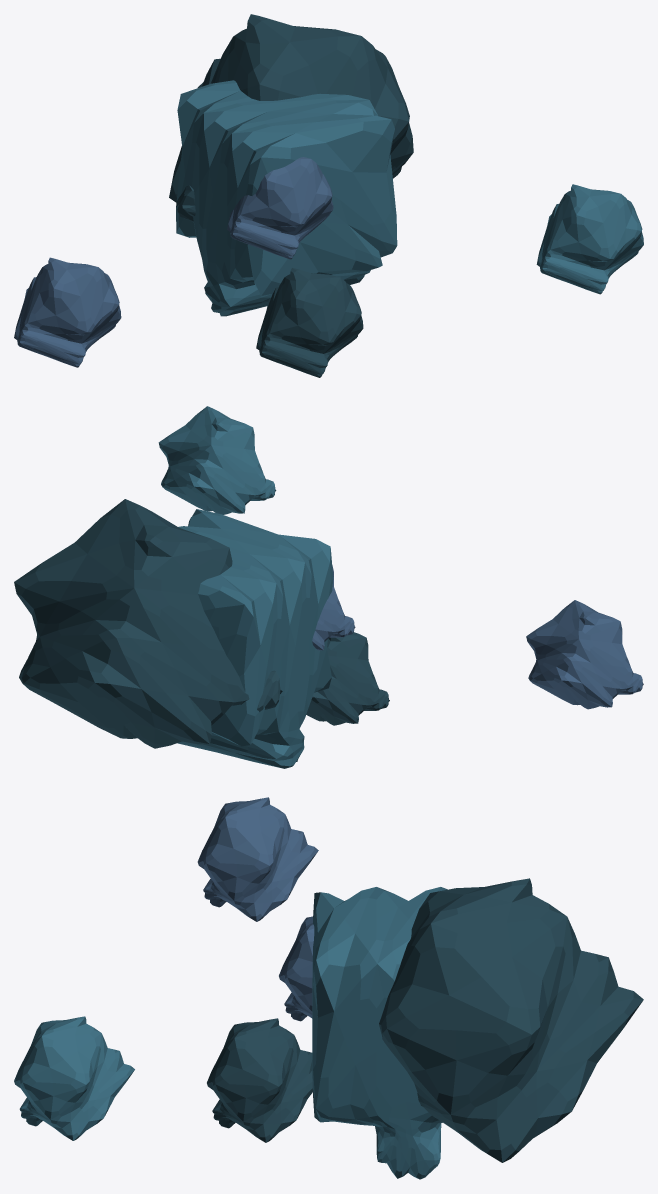
The model's file is Rock1.fbx.
3 renders of one model, top to bottom at view 1: azimuth 30°, elevation 25°; view 2: azimuth 150°, elevation 25°; view 3: azimuth 270°, elevation 25°, orthographic. The views are drawn at different scales.
Parts seen in each view (by area): view 1: Cube, Cube.002, Cube.004, Cube.005, Cube.003, Cube.001; view 2: Cube.002, Cube, Cube.005, Cube.003, Cube.004, Cube.001; view 3: Cube.002, Cube, Cube.005, Cube.003, Cube.004, Cube.001.
Boxes of the visible parts, x1,y1,x2,y2 form: Cube: [176, 80, 397, 316]; Cube.002: [169, 14, 413, 221]; Cube.004: [256, 268, 363, 377]; Cube.005: [14, 257, 121, 367]; Cube.003: [536, 184, 643, 294]; Cube.001: [227, 157, 333, 259]; Cube.002: [14, 499, 282, 748]; Cube: [177, 509, 333, 768]; Cube.005: [526, 600, 643, 709]; Cube.003: [158, 406, 276, 514]; Cube.004: [306, 632, 389, 725]; Cube.001: [312, 565, 355, 650]; Cube.002: [379, 878, 643, 1162]; Cube: [312, 887, 447, 1179]; Cube.005: [197, 797, 318, 921]; Cube.003: [14, 1016, 134, 1140]; Cube.004: [207, 1018, 312, 1142]; Cube.001: [279, 916, 314, 1021].
Size of the model in its own units: 3708 by 1636 by 3238.
